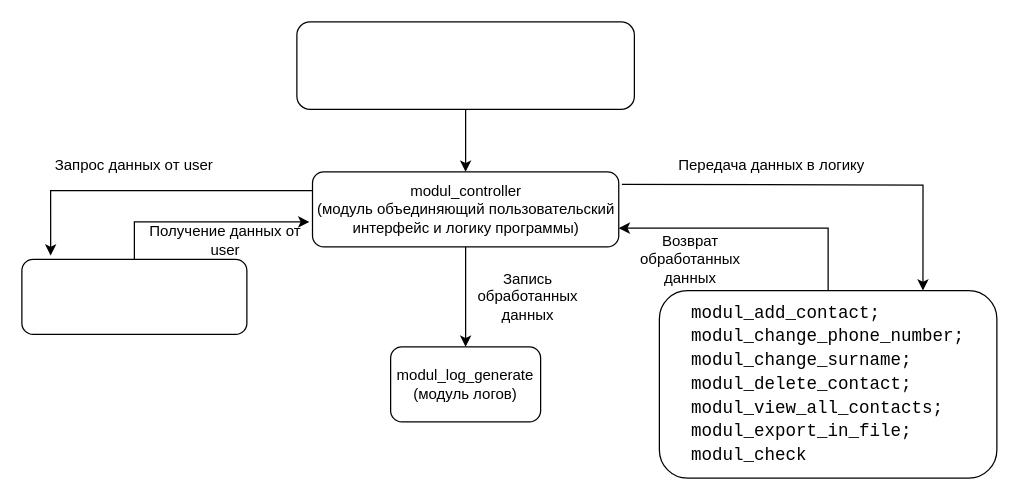
The diagram is 1019 pixels wide and 500 high, and some of its shapes have lost their labels. The box of each missing label's shape, as (x1, y1, x2, y2) in pixels:
main (главный модуль - точка входа программы): (296, 21, 634, 109)
modul_user_interface (модуль пользовательского интерфейса): (21, 258, 247, 334)
